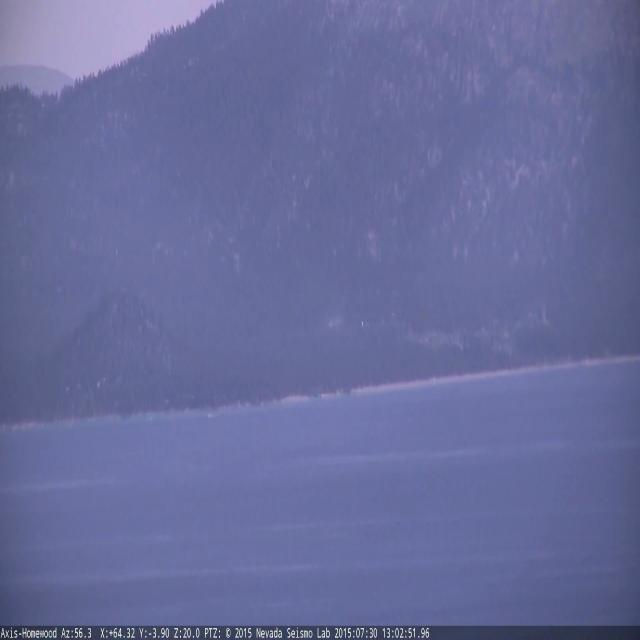smoke: (328, 310, 342, 330)
